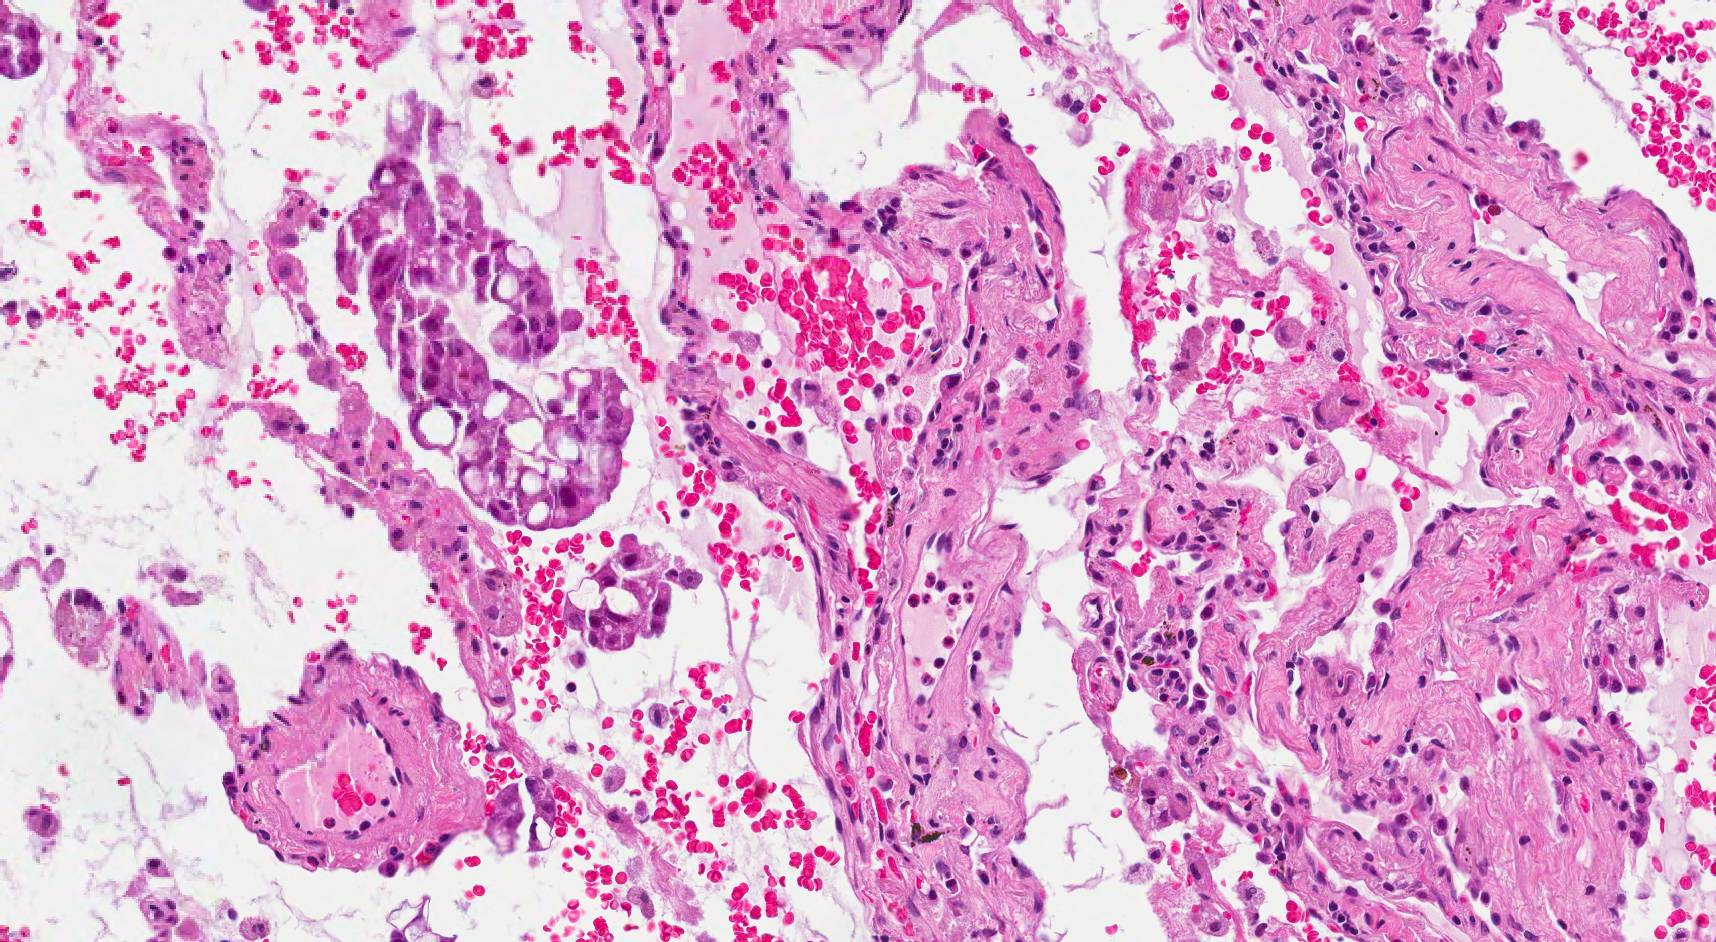stas: (331, 147, 632, 531), (557, 529, 711, 657), (482, 776, 563, 858)
